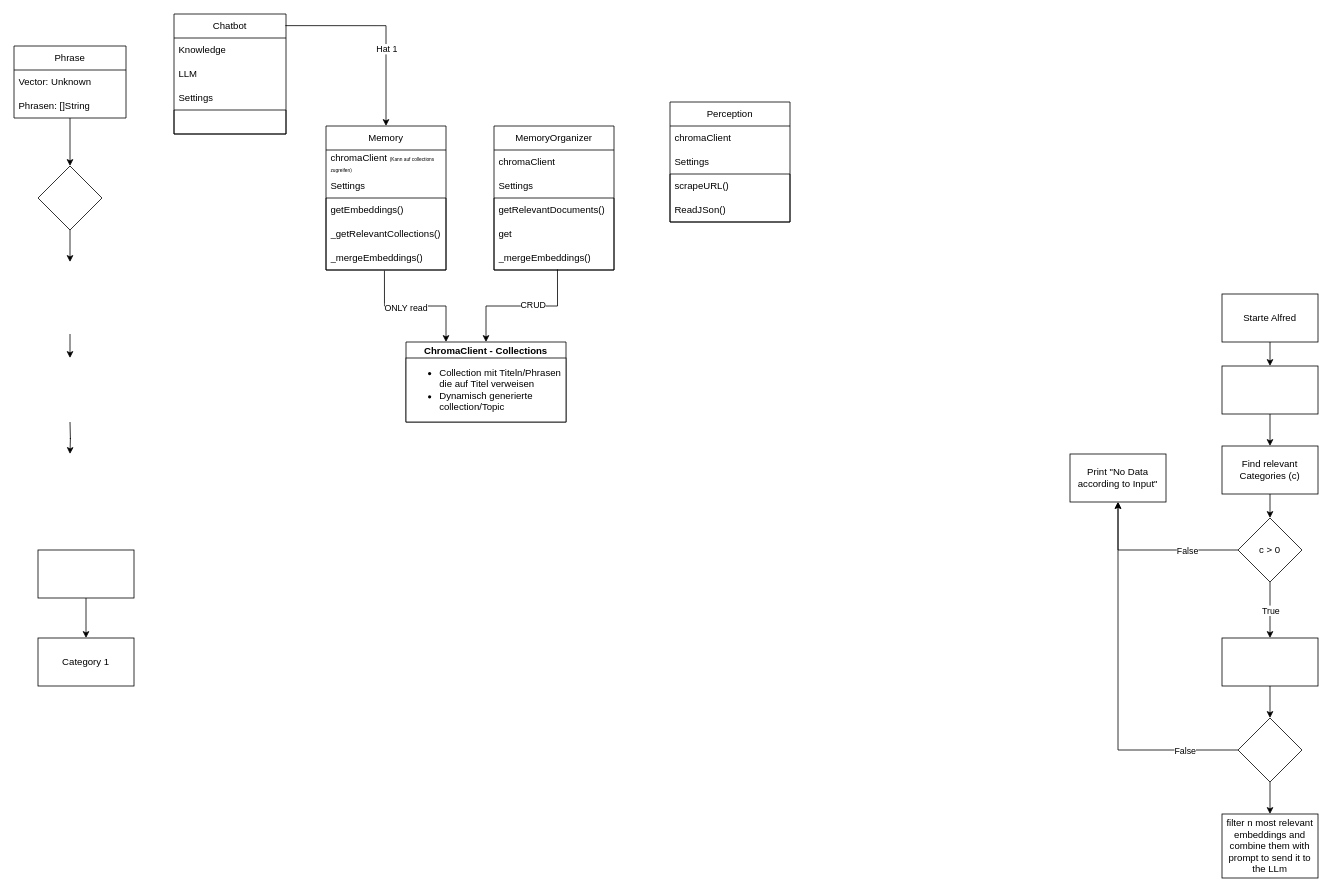
Image size: 1332x892. Some labels were removed from this diagram. Here are the shapes that lost their labels. From the top down, the centre of each, then its label:
At [229,121]: "Answer(input:String)".
At [69,197]: "hat n".
At [1269,389]: "Await Input".
At [85,573]: "Phrase 1".
At [1269,661]: "For c find embeddings (e)".
At [1269,749]: "e > 0".
